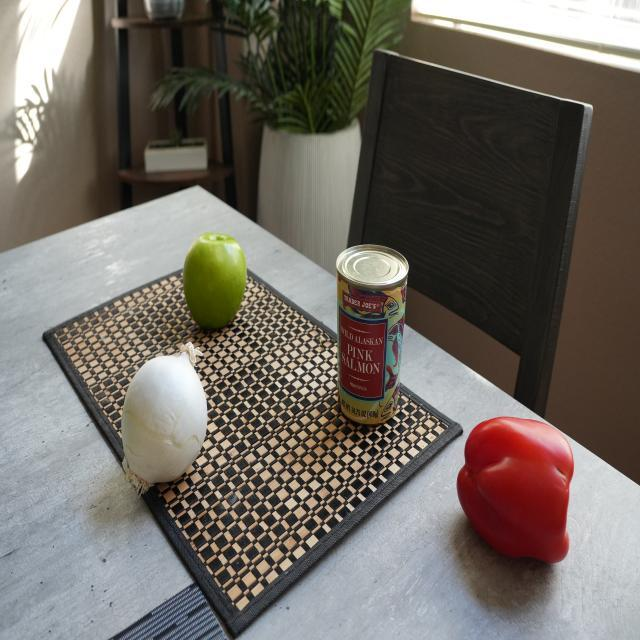bell_pepper: (454, 414, 588, 572)
onion: (116, 344, 214, 491)
